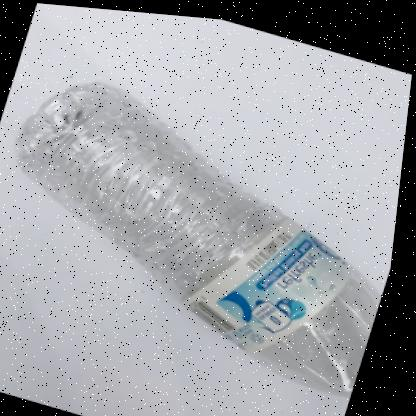Plastic: (19, 79, 386, 390)
